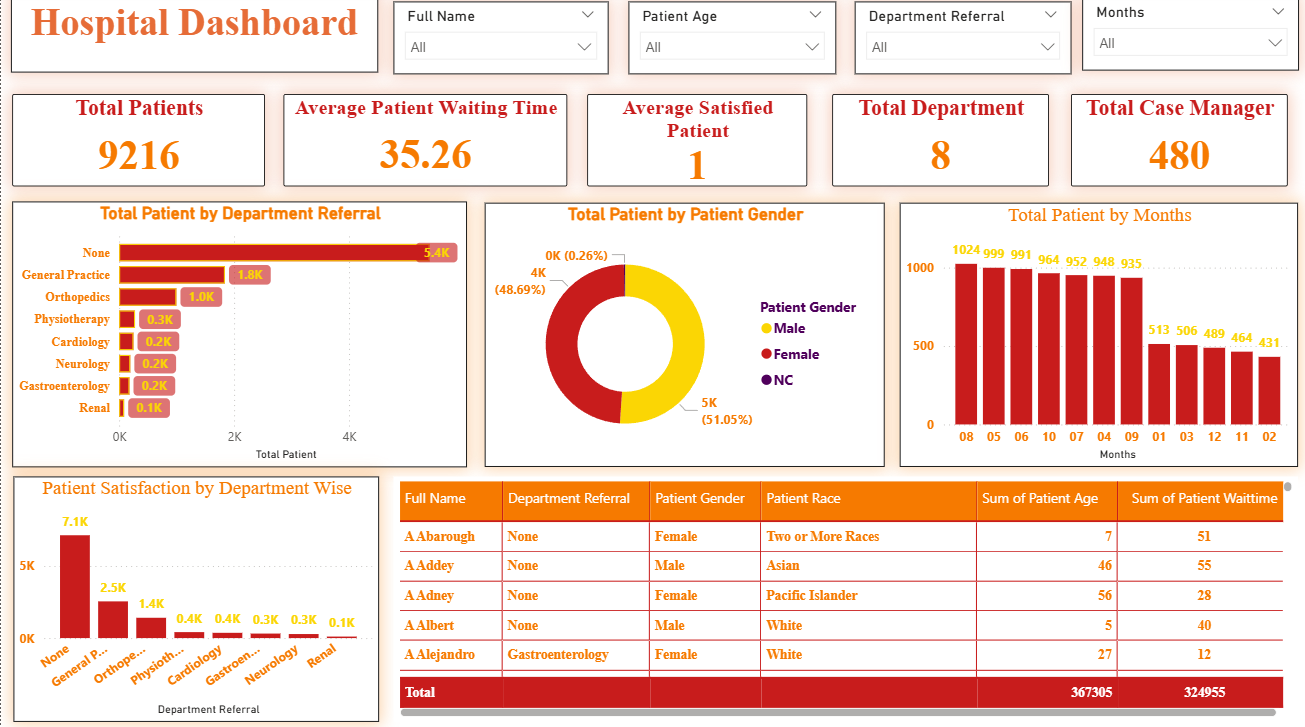

What the dashboard file says about the page in this screenshot:
{"tool":"powerbi","page":{"name":"Page 1","canvas":[1280,720],"ordinal":0},"visuals":[{"type":"textbox","box":[10,0,359.5,76.5],"z":0},{"type":"slicer","fields":{"Values":["Hospital ER_Data.Full Name"]},"box":[384.4,7.1,210,71.2],"z":1000},{"type":"slicer","fields":{"Values":["Hospital ER_Data.Patient Age"]},"box":[614,7.1,202.9,71.2],"z":2000},{"type":"slicer","fields":{"Values":["Hospital ER_Data.Department Referral"]},"box":[834.7,7.1,211.8,71.2],"z":3000},{"type":"slicer","fields":{"Values":["Hospital ER_Data.Months"]},"box":[1057.2,3.6,211.8,71.2],"z":4000},{"type":"card","title":"Total Patients","fields":{"Values":["Count(Hospital ER_Data.Patient Id)"]},"box":[10.7,97.9,247.4,90.8],"z":5000},{"type":"card","title":"Average Patient Waiting Time","fields":{"Values":["Avg(Hospital ER_Data.Patient Waittime)"]},"box":[275.9,97.9,277.6,90.8],"z":6000},{"type":"card","title":"Average Satisfied Patient ","fields":{"Values":["Avg(Hospital ER_Data.Patient Satisfaction Score)"]},"box":[573.1,97.9,215.4,90.8],"z":7000},{"type":"card","title":"Total Department","fields":{"Values":["Count(Hospital ER_Data.Department Referral)"]},"box":[813.4,97.9,211.8,90.8],"z":8000},{"type":"card","title":"Total Case Manager","fields":{"Values":["Sum(Hospital ER_Data.Patients CM)"]},"box":[1046.5,97.9,211.8,90.8],"z":9000},{"type":"barChart","fields":{"Category":["Hospital ER_Data.Department Referral"],"Y":["Hospital ER_Data.Total Patient"]},"box":[10.7,202.9,444.9,259.8],"z":10000},{"type":"donutChart","fields":{"Category":["Hospital ER_Data.Patient Gender"],"Y":["Hospital ER_Data.Total Patient"]},"box":[473.4,204.7,391.6,258.1],"z":11000},{"type":"columnChart","fields":{"Category":["Hospital ER_Data.Months"],"Y":["Hospital ER_Data.Total Patient"]},"box":[879.2,204.7,389.8,258.1],"z":12000},{"type":"columnChart","title":"Patient Satisfaction  by Department Wise","fields":{"Category":["Hospital ER_Data.Department Referral"],"Y":["Sum(Hospital ER_Data.Patient Satisfaction Score)"]},"box":[12.5,471.6,357.7,240.3],"z":13000},{"type":"tableEx","fields":{"Values":["Hospital ER_Data.Full Name","Hospital ER_Data.Department Referral","Hospital ER_Data.Patient Gender","Hospital ER_Data.Patient Race","Sum(Hospital ER_Data.Patient Age)","Sum(Hospital ER_Data.Patient Waittime)"]},"box":[384.4,471.6,884.6,240.3],"z":14000}]}

Visuals, with their boxes in screenshot pixels (x1, y1, x2, y2), scaled from the page's 1280x720 canvas onto the 1305x727 screenshot:
textbox: [left=10, top=0, right=377, bottom=77]
slicer - Hospital ER_Data.Full Name: [left=392, top=7, right=606, bottom=79]
slicer - Hospital ER_Data.Patient Age: [left=626, top=7, right=833, bottom=79]
slicer - Hospital ER_Data.Department Referral: [left=851, top=7, right=1067, bottom=79]
slicer - Hospital ER_Data.Months: [left=1078, top=4, right=1294, bottom=76]
"Total Patients" card: [left=11, top=99, right=263, bottom=191]
"Average Patient Waiting Time" card: [left=281, top=99, right=564, bottom=191]
"Average Satisfied Patient " card: [left=584, top=99, right=804, bottom=191]
"Total Department" card: [left=829, top=99, right=1045, bottom=191]
"Total Case Manager" card: [left=1067, top=99, right=1283, bottom=191]
barChart - Hospital ER_Data.Department Referral x Hospital ER_Data.Total Patient: [left=11, top=205, right=464, bottom=467]
donutChart - Hospital ER_Data.Patient Gender x Hospital ER_Data.Total Patient: [left=483, top=207, right=882, bottom=467]
columnChart - Hospital ER_Data.Months x Hospital ER_Data.Total Patient: [left=896, top=207, right=1294, bottom=467]
"Patient Satisfaction  by Department Wise" columnChart: [left=13, top=476, right=377, bottom=719]
tableEx - Hospital ER_Data.Full Name x Hospital ER_Data.Department Referral: [left=392, top=476, right=1294, bottom=719]
